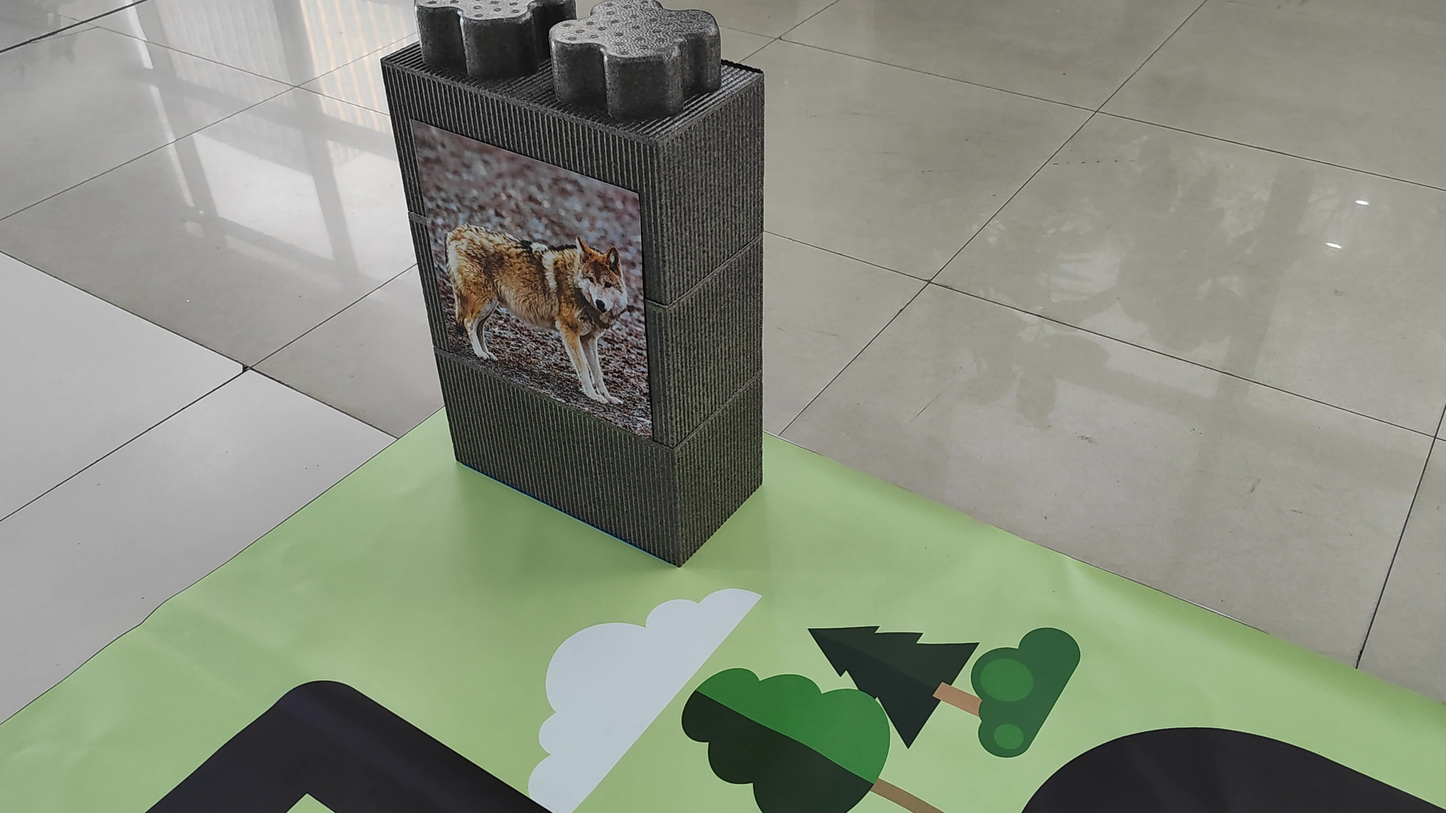wolf: (423, 189, 641, 387)
